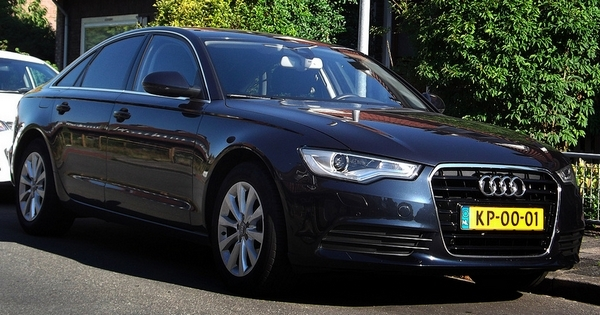kenteken: (458, 206, 545, 230)
